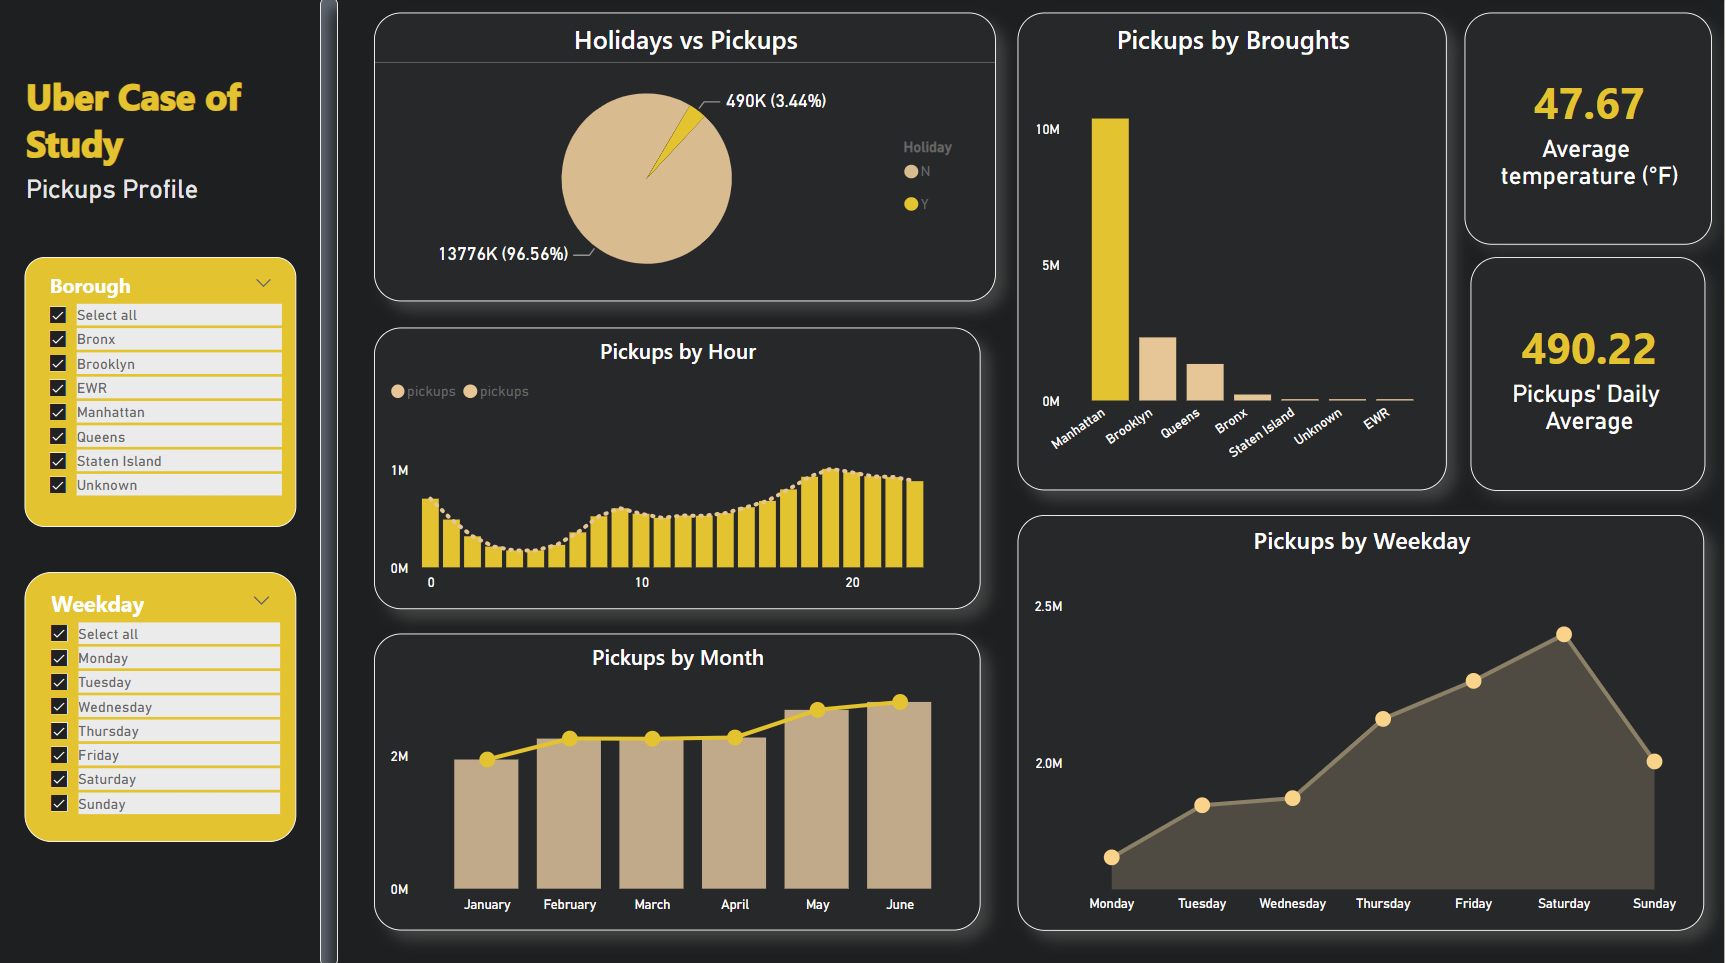

What the dashboard file says about the page in this screenshot:
{"tool":"powerbi","page":{"name":"Dashboard Uber","canvas":[1280,720],"ordinal":0},"visuals":[{"type":"textbox","title":"Uber Case of Study","box":[2.5,45.8,237.9,129.8],"z":0},{"type":"slicer","fields":{"Values":["csv_uber.borough"]},"box":[21.6,193.4,201,199.8],"z":1000},{"type":"slicer","fields":{"Values":["csv_uber.week_day"]},"box":[21.6,426.2,201,199.8],"z":2000},{"type":"shape","box":[240.5,0,12.7,720.2],"z":3000},{"type":"lineStackedColumnComboChart","title":"Pickups by Broughts","fields":{"Category":["csv_uber.borough"],"Y":["Sum(csv_uber.pickups)"]},"box":[757.1,12.7,318.1,353.7],"z":4000},{"type":"areaChart","title":"Pickups by Weekday","fields":{"Category":["csv_uber.week_day"],"Y":["Sum(csv_uber.pickups)"]},"box":[757.1,384.3,508.9,307.9],"z":5000},{"type":"card","title":"Bikes related purchases","fields":{"Values":["Avg(csv_uber.pickups)"]},"box":[1091.7,193.4,174.3,173],"z":6000},{"type":"lineStackedColumnComboChart","title":"Pickups by Hour","fields":{"Category":["csv_uber.start_hour"],"Y":["Sum(csv_uber.pickups)"],"Y2":["Sum(csv_uber.pickups)"]},"box":[279.9,245.6,449.1,208.7],"z":7000},{"type":"card","title":"Bikes related purchases","fields":{"Values":["Avg(csv_uber.temp)"]},"box":[1087.9,12.7,183.2,171.8],"z":8000},{"type":"pieChart","title":"Holidays vs Pickups","fields":{"Category":["csv_uber.hday"],"Y":["Sum(csv_uber.pickups)"]},"box":[279.9,12.7,460.6,213.8],"z":9000},{"type":"lineClusteredColumnComboChart","title":"Pickups by Month","fields":{"Category":["csv_uber2.start_month"],"Y":["Sum(csv_uber2.pickups)"],"Y2":["Sum(csv_uber2.pickups)"]},"box":[279.9,472,449.1,220.1],"z":10000}]}

Visuals, with their boxes in screenshot pixels (x1, y1, x2, y2), scaled from the page's 1280x720 canvas onto the 1726x963 screenshot:
"Uber Case of Study" textbox: x1=3, y1=61, x2=324, y2=235
slicer - csv_uber.borough: x1=29, y1=259, x2=300, y2=526
slicer - csv_uber.week_day: x1=29, y1=570, x2=300, y2=837
shape: x1=324, y1=0, x2=341, y2=962
"Pickups by Broughts" lineStackedColumnComboChart: x1=1021, y1=17, x2=1450, y2=490
"Pickups by Weekday" areaChart: x1=1021, y1=514, x2=1707, y2=926
"Bikes related purchases" card: x1=1472, y1=259, x2=1707, y2=490
"Pickups by Hour" lineStackedColumnComboChart: x1=377, y1=328, x2=983, y2=608
"Bikes related purchases" card: x1=1467, y1=17, x2=1714, y2=247
"Holidays vs Pickups" pieChart: x1=377, y1=17, x2=999, y2=303
"Pickups by Month" lineClusteredColumnComboChart: x1=377, y1=631, x2=983, y2=926
